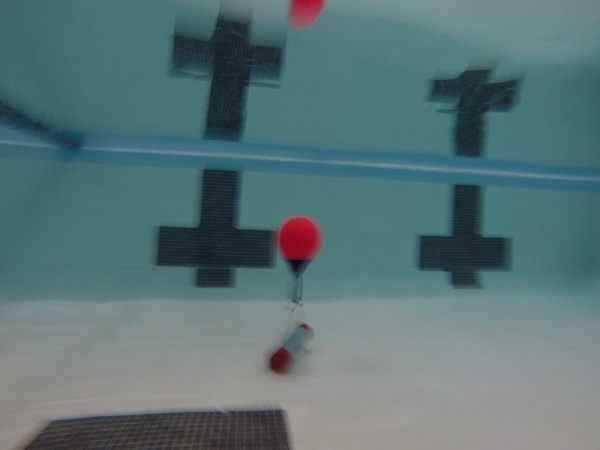buoy_red: (275, 214, 323, 279)
